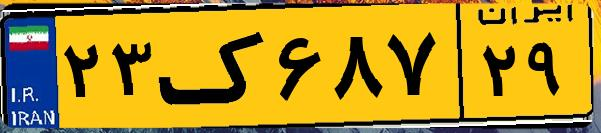2: (57, 26, 110, 100), (475, 38, 525, 113)
3: (110, 28, 158, 98)
6: (270, 28, 330, 110)
7: (385, 28, 445, 110)
8: (330, 28, 385, 110)
9: (525, 38, 570, 115)
ک: (158, 12, 270, 120)
